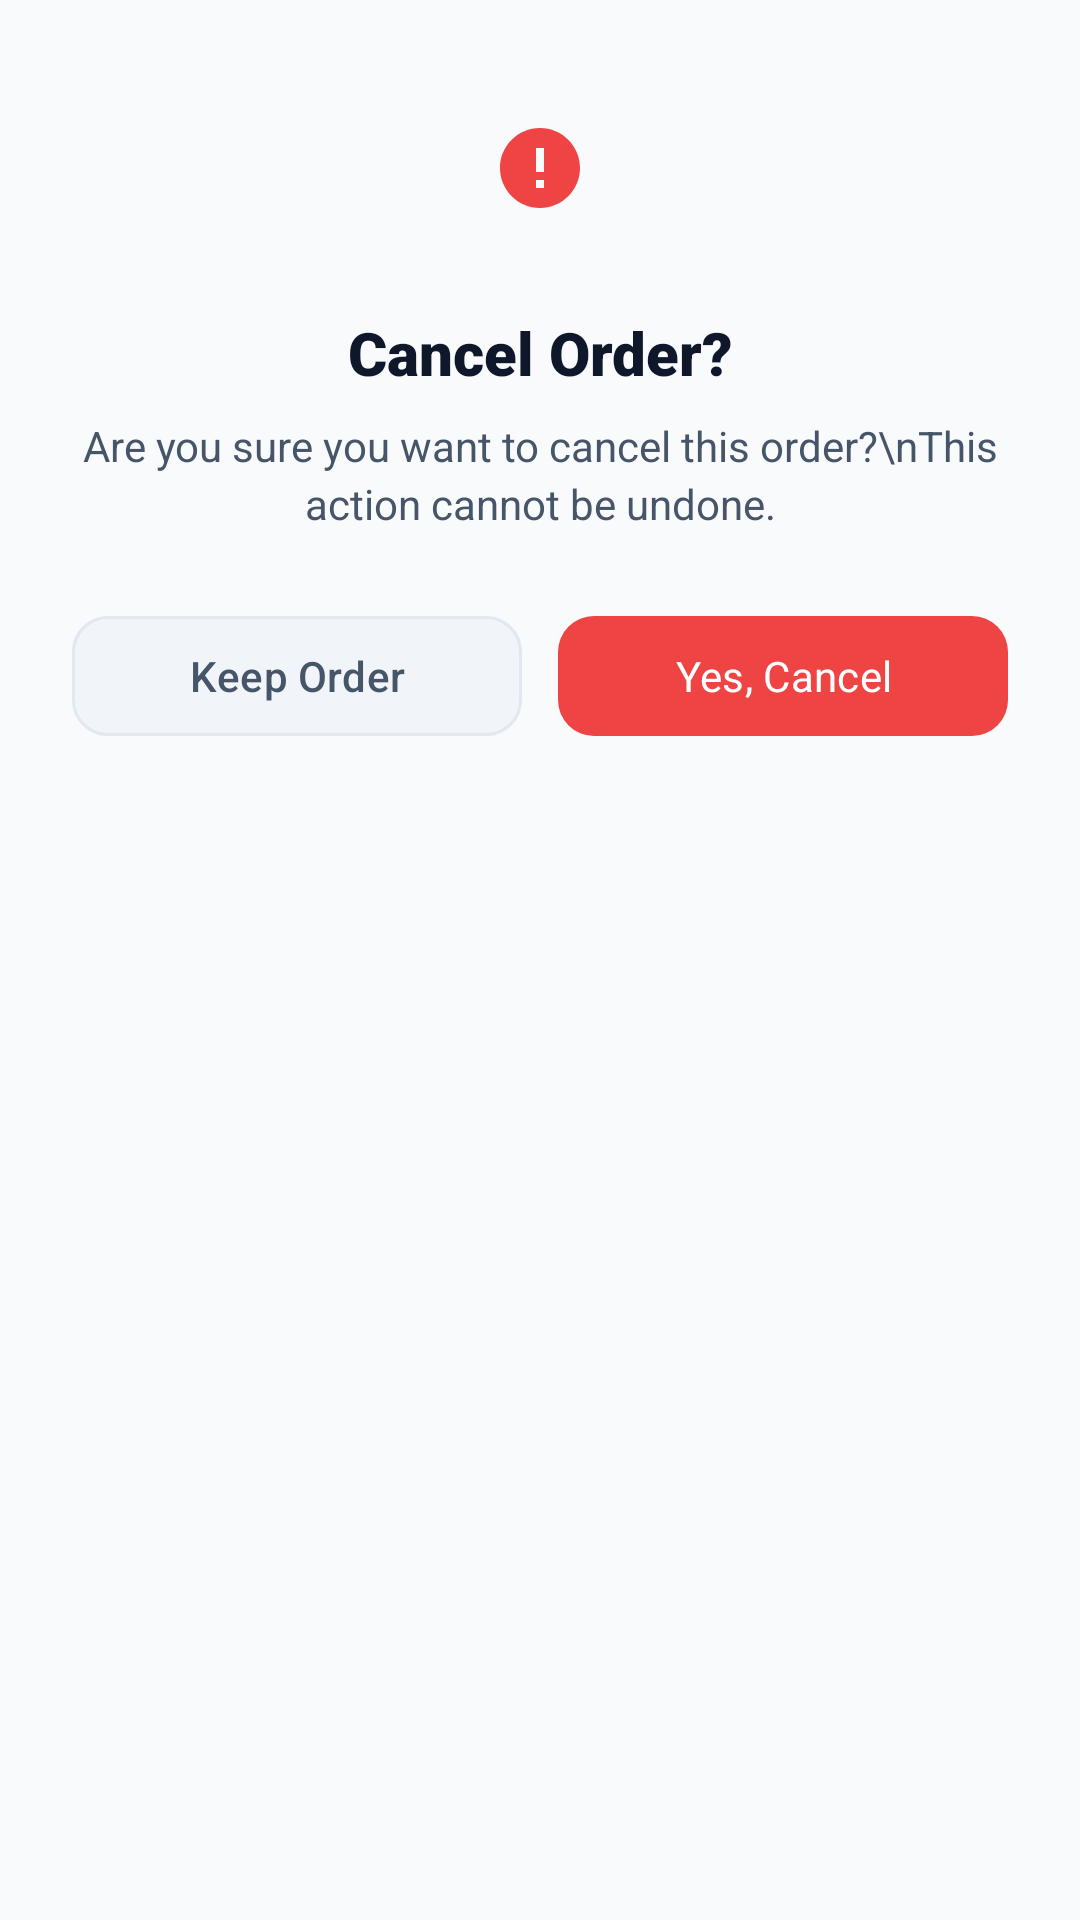

Icons on this 1080 x 1920 Android screen, each with its box as (x1, y1, x2, y2):
Warning Icon: (500, 128, 580, 208)
